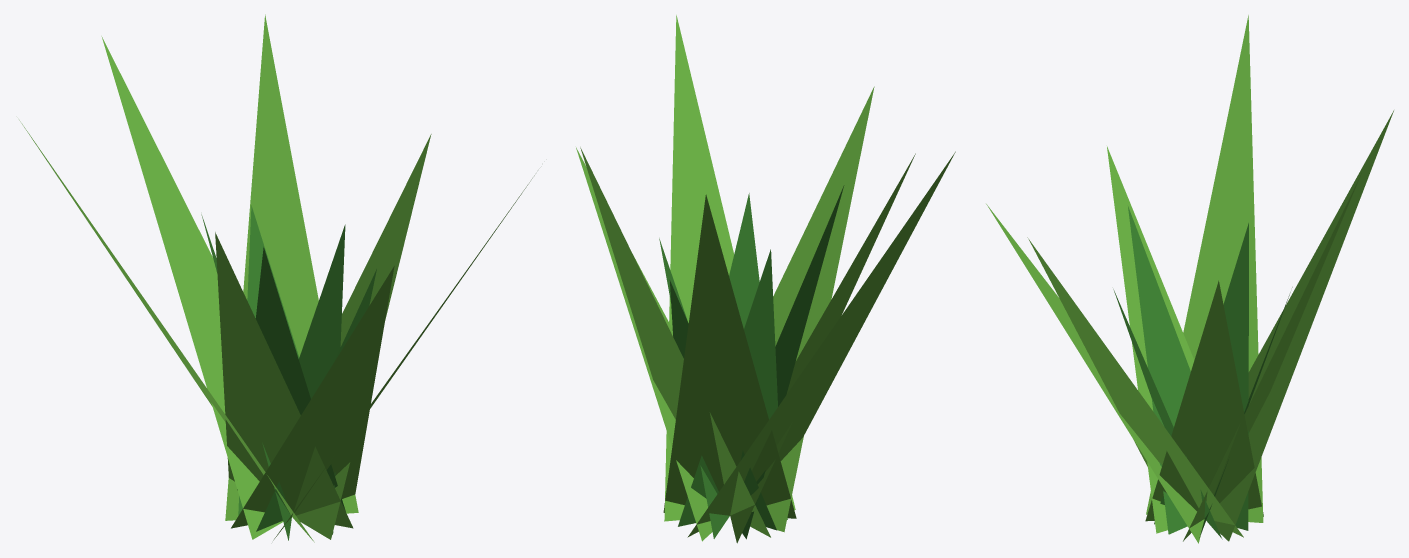
File: carrot_3.obj
The picture shows the model from 3 angles, left to right: view 1: azimuth 30°, elevation 25°; view 2: azimuth 150°, elevation 25°; view 3: azimuth 270°, elevation 25°; orthographic projection. The views are drawn at different scales.
Parts seen in each view (by area): view 1: plant; view 2: plant; view 3: plant.
Part boxes in pixels (x1,y1,x2,y2): plant: (19,14,534,542); plant: (576,15,955,543); plant: (986,15,1393,543).
Bounding box in the file's own units: 0.2788 × 0.293 × 0.2747.
